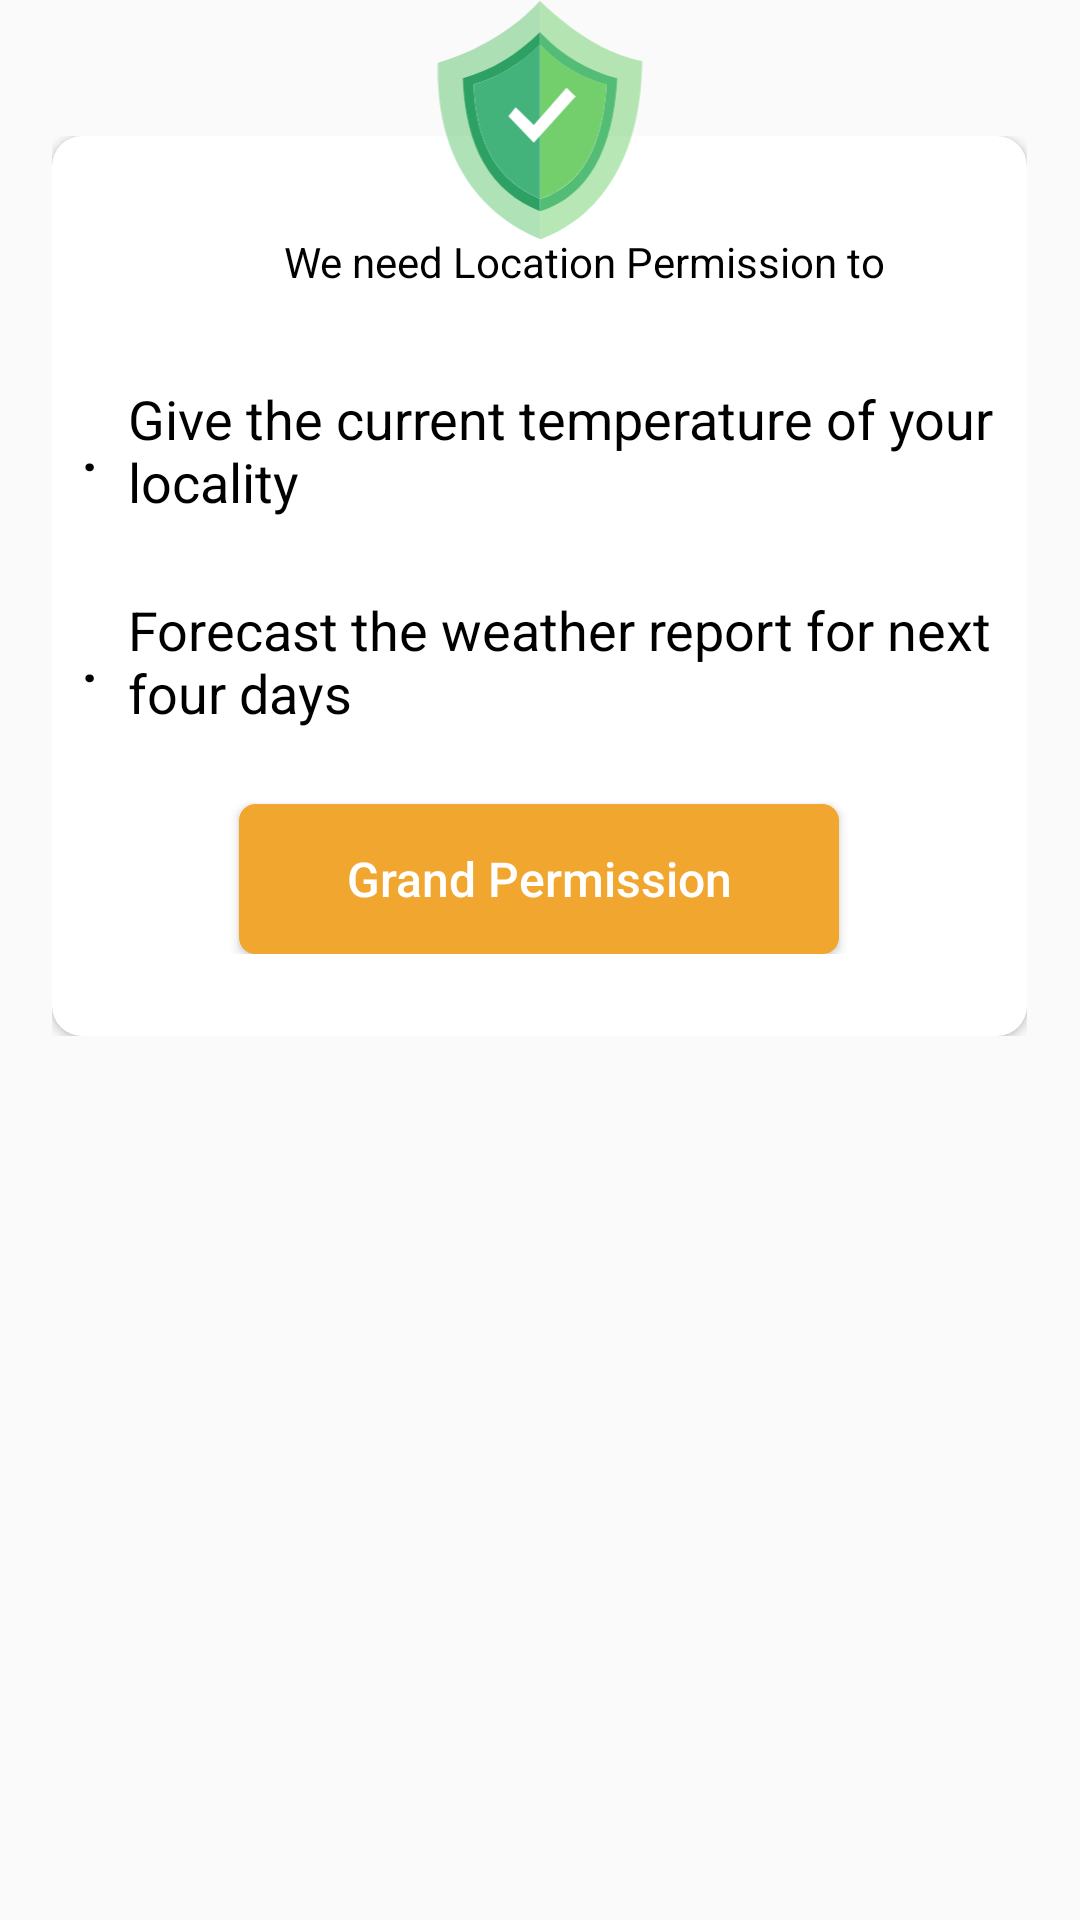

Screen size 1080*1920. Icon name, then its center in pixels as (x=x, y=y):
trust: (x=540, y=120)
